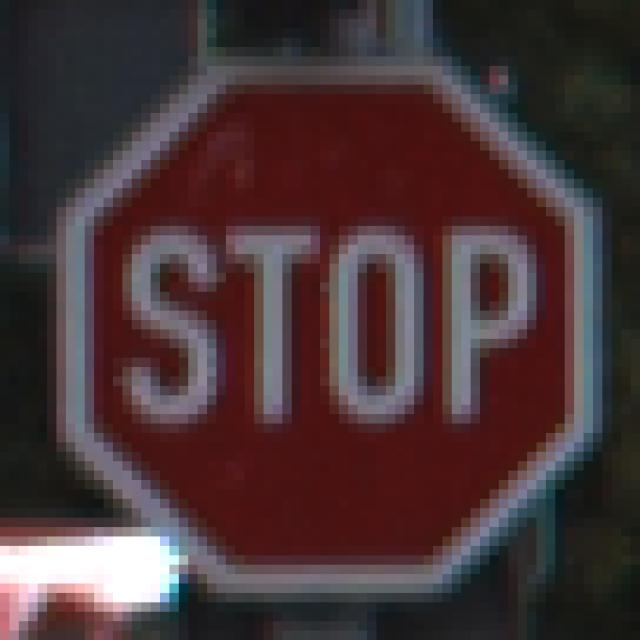STOP: (58, 58, 585, 585)
